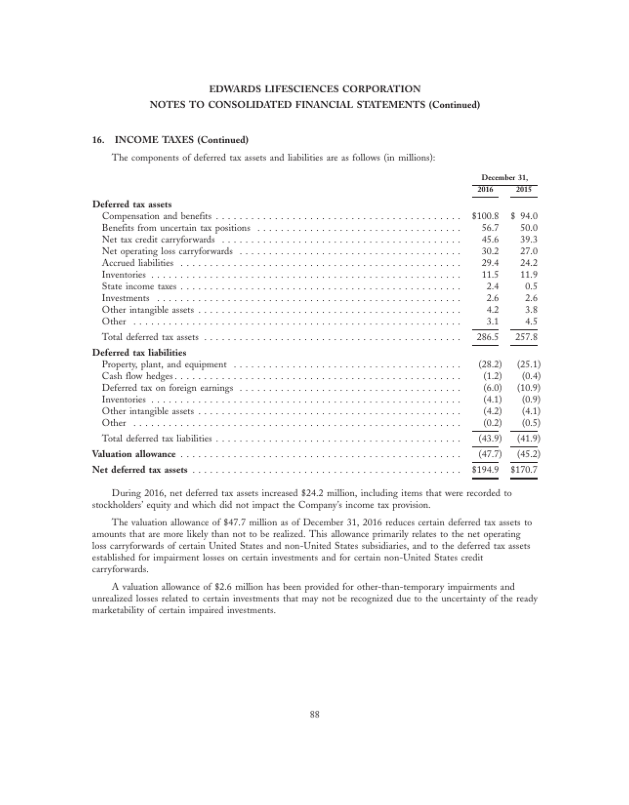table: (465, 168, 547, 482)
